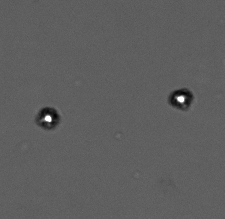Living Cell: (169, 88, 193, 110), (36, 107, 59, 129)
